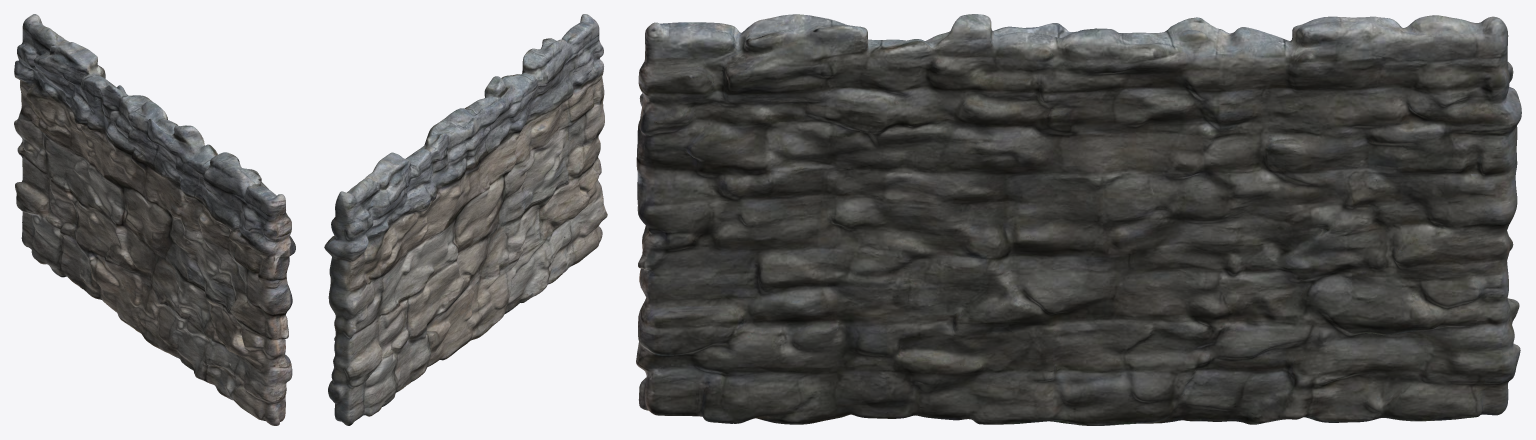
Rendered from Meshy_AI_Rock_wall_0220190108_texture.glb.
The picture shows the model from 3 angles, left to right: view 1: azimuth 30°, elevation 25°; view 2: azimuth 150°, elevation 25°; view 3: azimuth 270°, elevation 25°; orthographic projection. The views are drawn at different scales.
Size of the model in its own units: 0.1907 by 1.01 by 2.
Materials: 1 (1 with a texture image).
